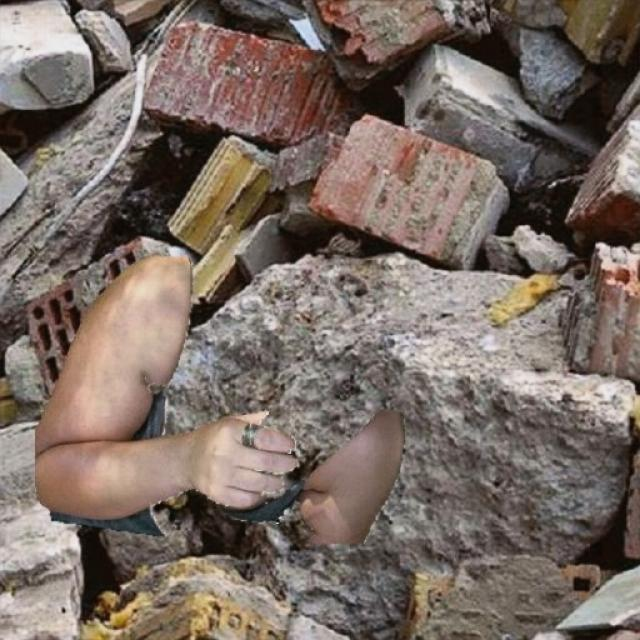Person in Rubble: (35, 256, 405, 542)
